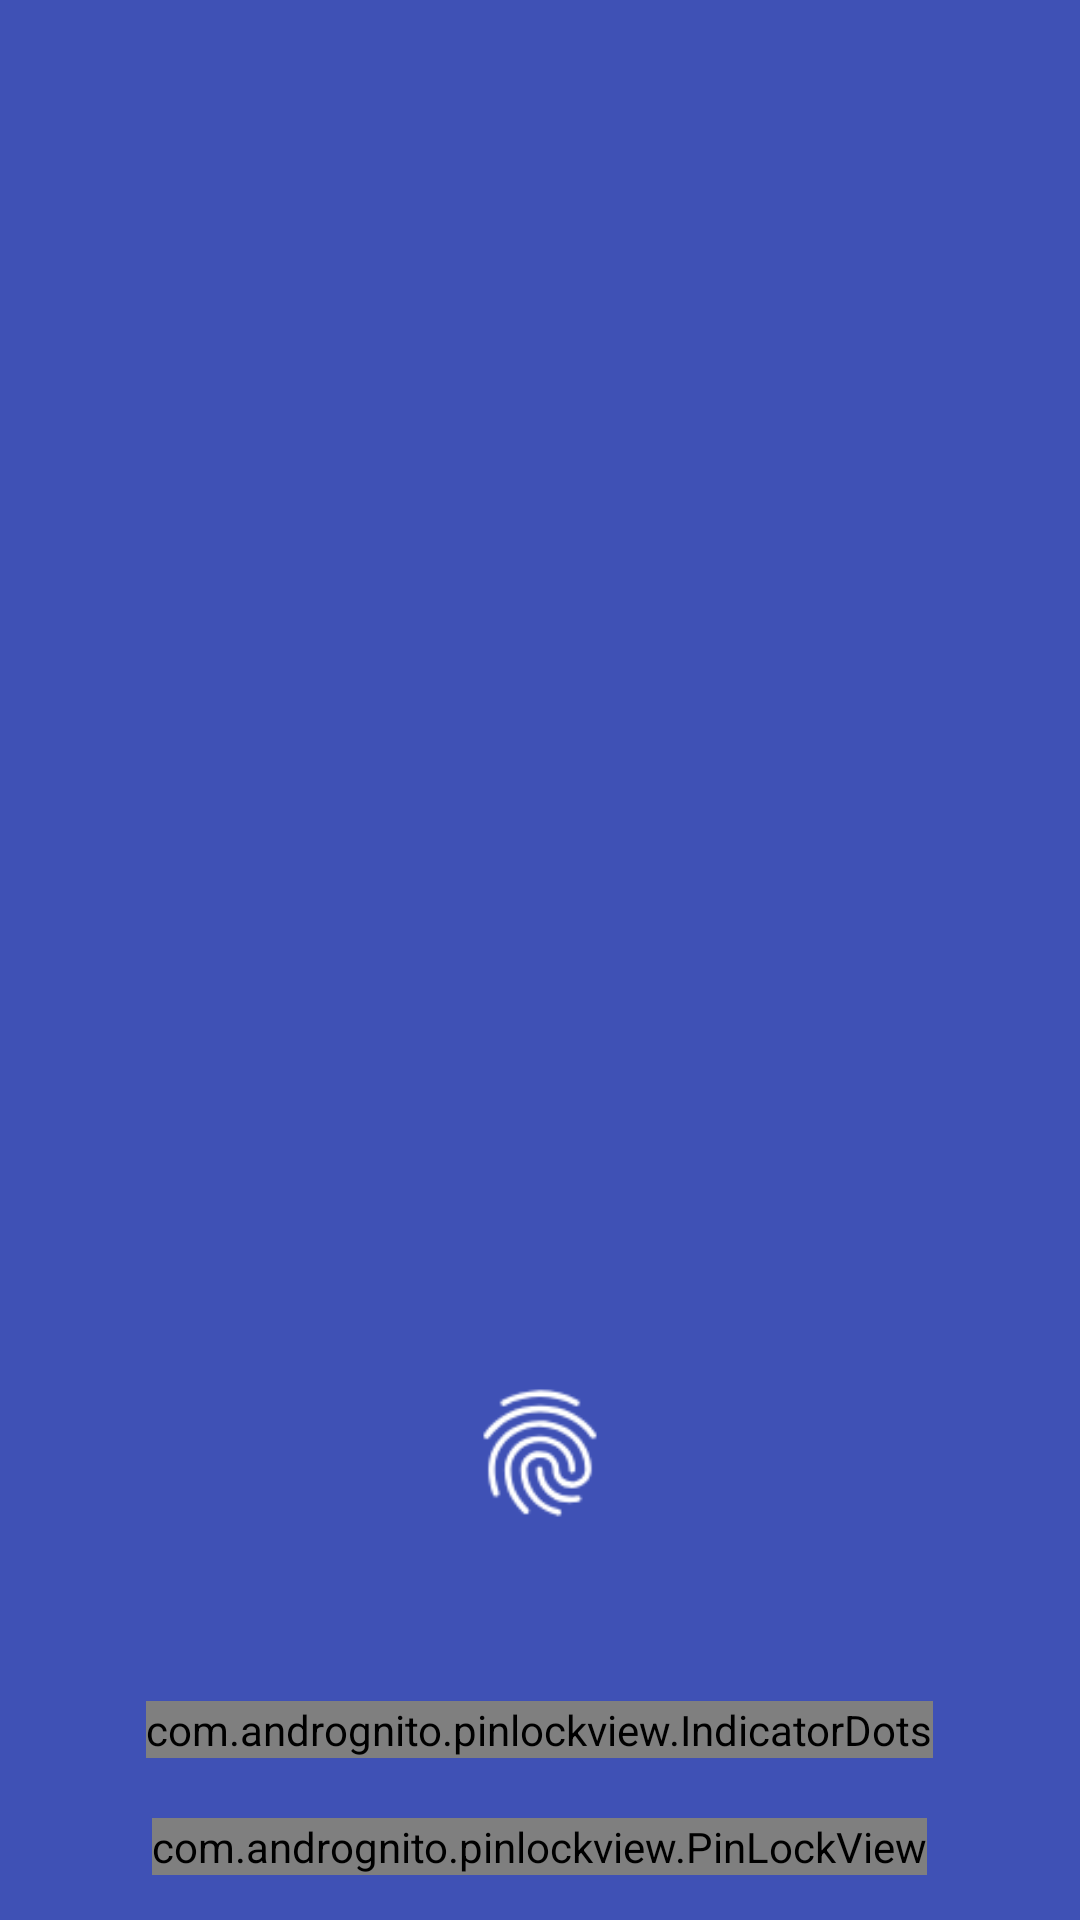

Point at icon controls on the screen. Image size 1080 × 1920, points as point (x, y).
fingerprint: point (540, 1453)
